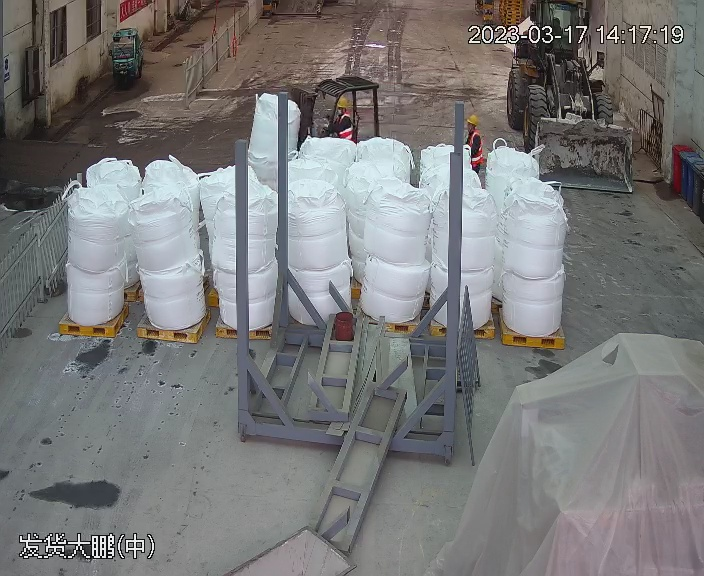head: (464, 113, 484, 142), (337, 96, 352, 109)
helmet: (330, 95, 356, 127), (466, 113, 481, 126)
people: (466, 113, 485, 174)
